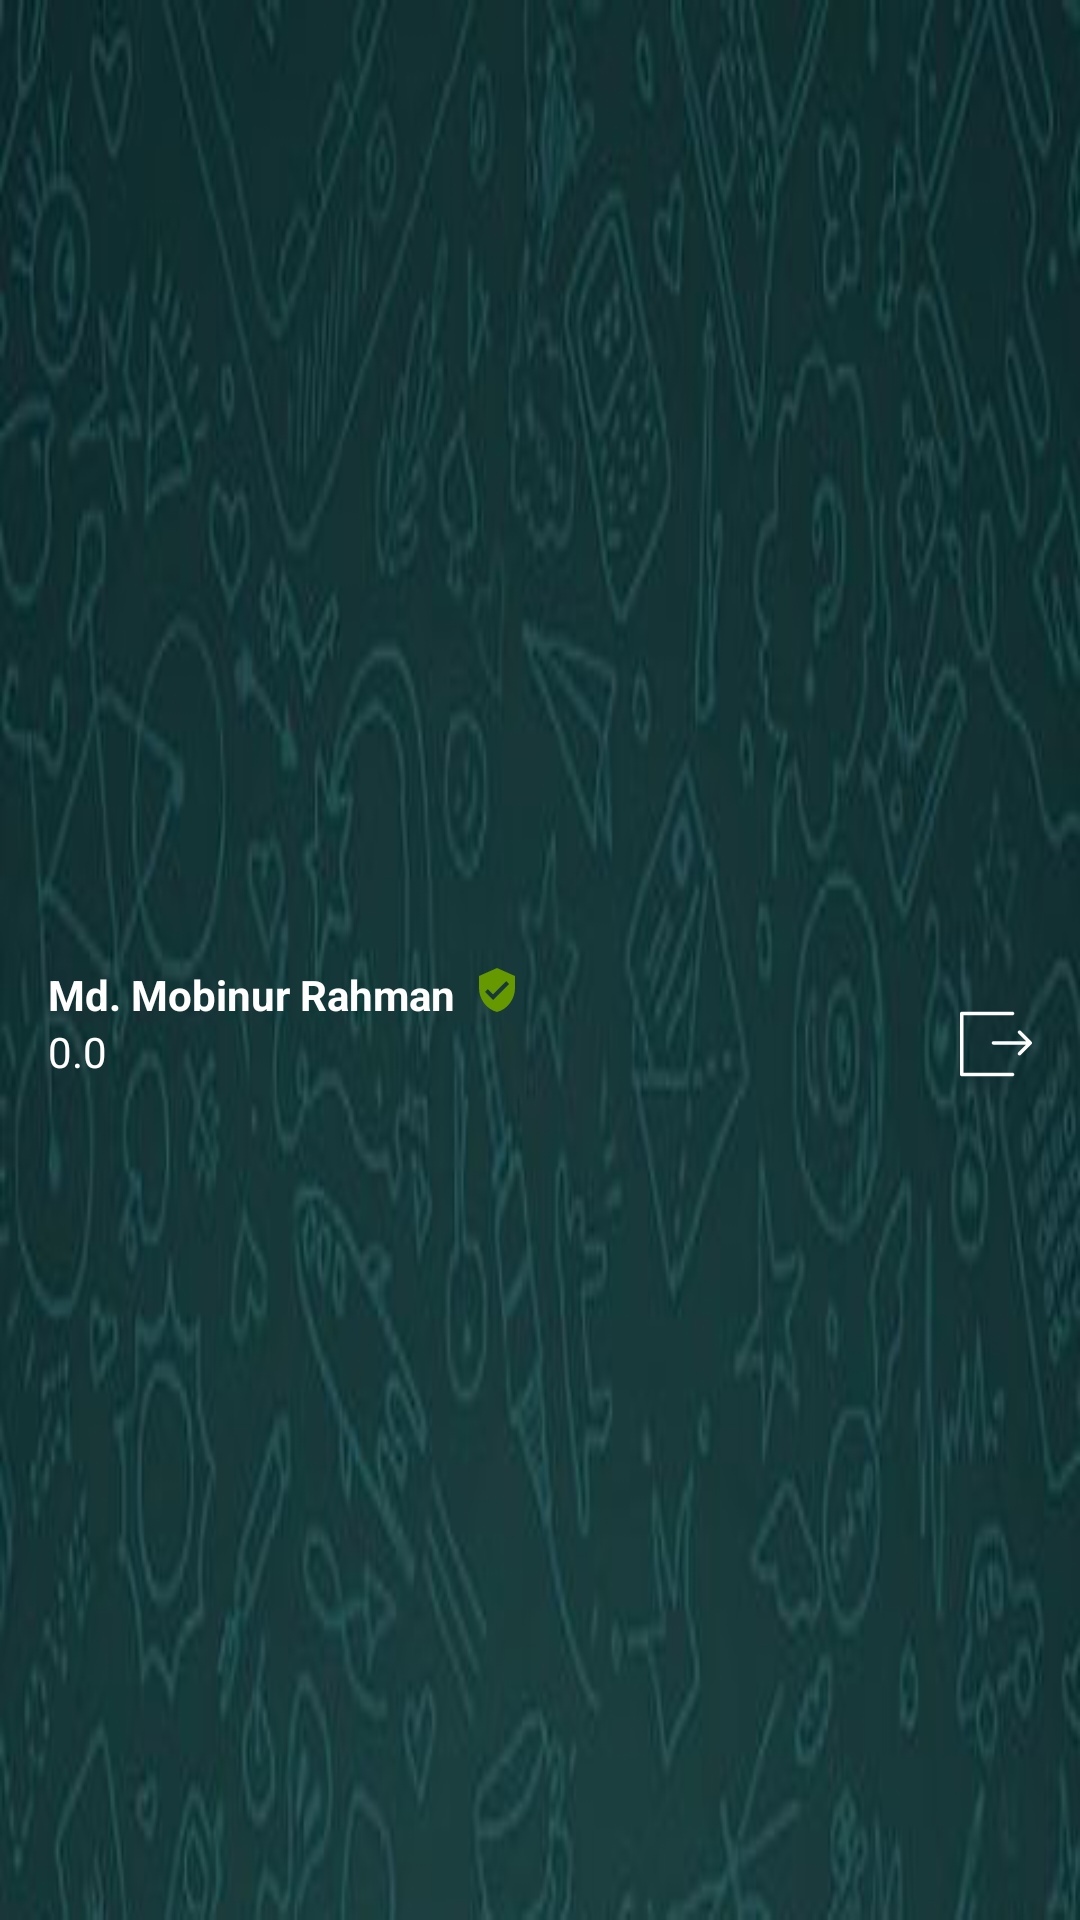

Screen size 1080px x 1920px. Icon name, then its box in pixels as (x1, y1, x2, y2):
verified user: (479, 968, 515, 1012)
